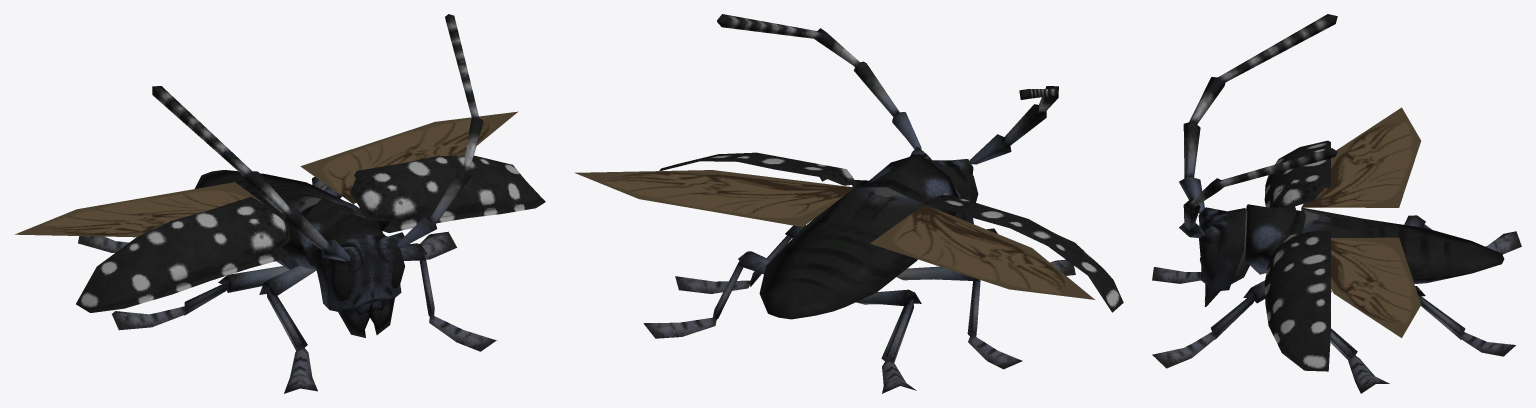
Rendered from InsectGomadarakamikiri.glb.
3 renders of one model, left to right at view 1: azimuth 30°, elevation 25°; view 2: azimuth 150°, elevation 25°; view 3: azimuth 270°, elevation 25°, orthographic. The views are drawn at different scales.
Visible parts, largest first — view 1: body146__mGomadarakamikiri, pCube29__mWing; view 2: body146__mGomadarakamikiri, pCube29__mWing; view 3: body146__mGomadarakamikiri, pCube29__mWing.
Part boxes in pixels (x1,y1,x2,y2): body146__mGomadarakamikiri: (76, 14, 545, 393); pCube29__mWing: (15, 111, 517, 237); body146__mGomadarakamikiri: (643, 14, 1123, 393); pCube29__mWing: (575, 170, 1094, 299); body146__mGomadarakamikiri: (1152, 14, 1521, 393); pCube29__mWing: (1301, 107, 1421, 337).
Size of the model in its own units: 4.32 by 2.07 by 2.92.
Materials: 2 (2 with a texture image).
